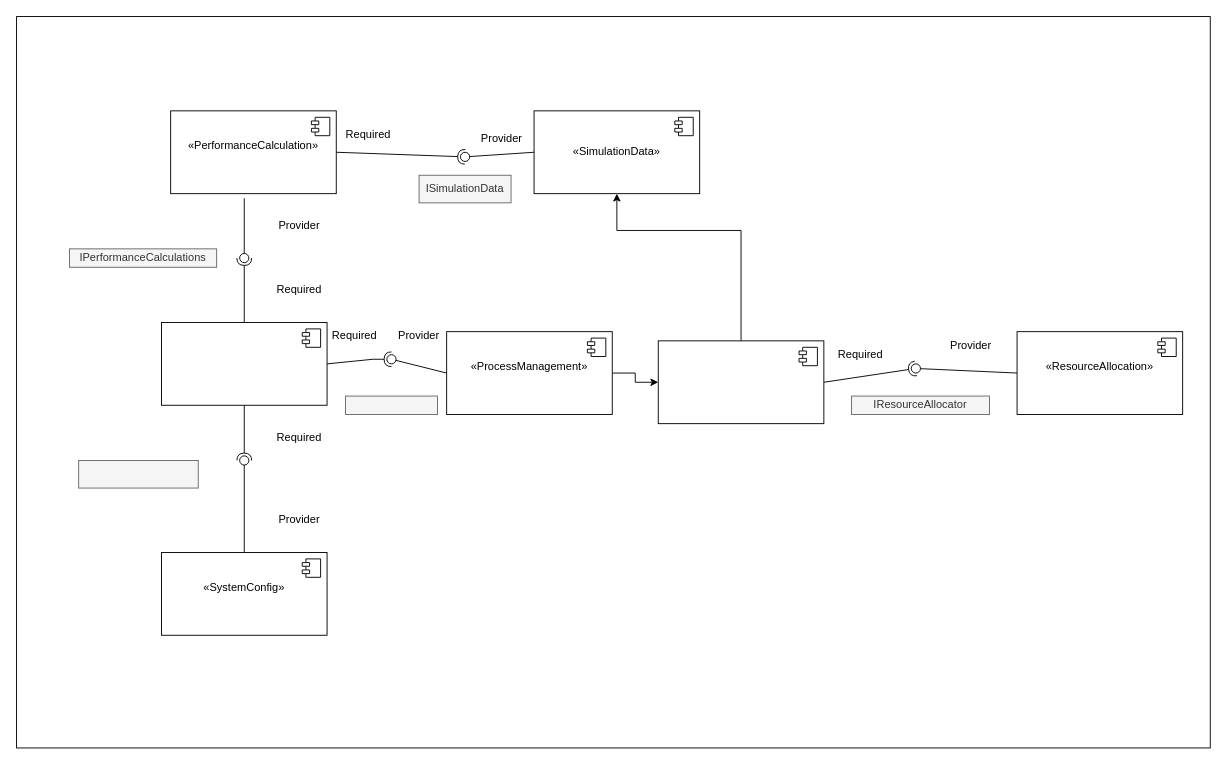
Some shapes in this 1226 by 764 pixel diagram are drawn without their labels. The centre of each missing label's shape, as x and y in pixels:
"IConfigurationServices" belongs at point 138,474.
"IProcessService" belongs at point 391,404.
"«ProcessStateManager»" belongs at point 740,382.
"«UserInterface»" belongs at point 244,363.
